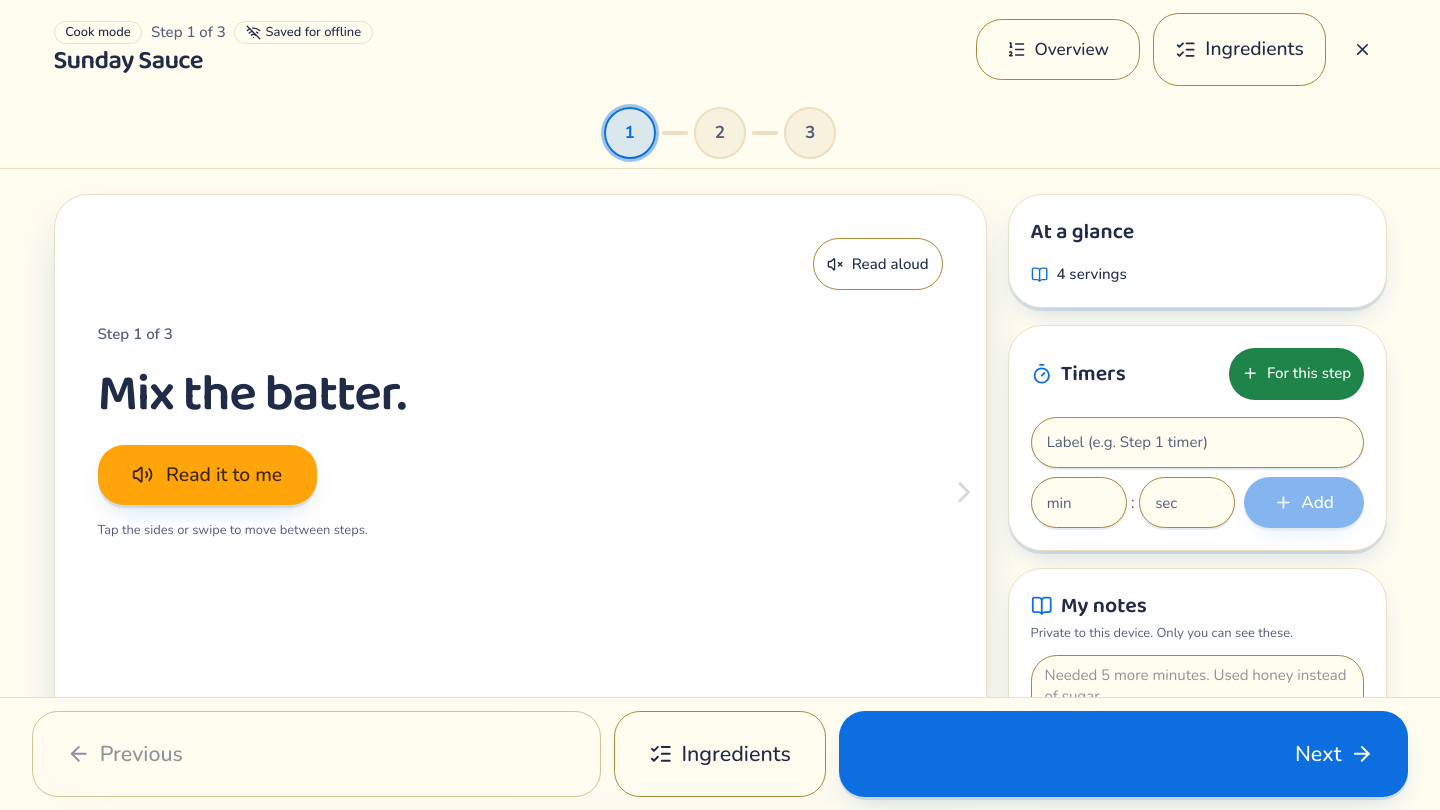
Test case: Cook Mode Kids step trail (issue #441) › shows a tappable step trail that navigates in Kids mode
The width and height of the screenshot is (1440, 810).
Check: the button named "Go to step 1 of 3" is shown, box [604,108,656,159]
Click the button named "Go to step 3 of 3" at (810, 133), box [784,108,836,159]
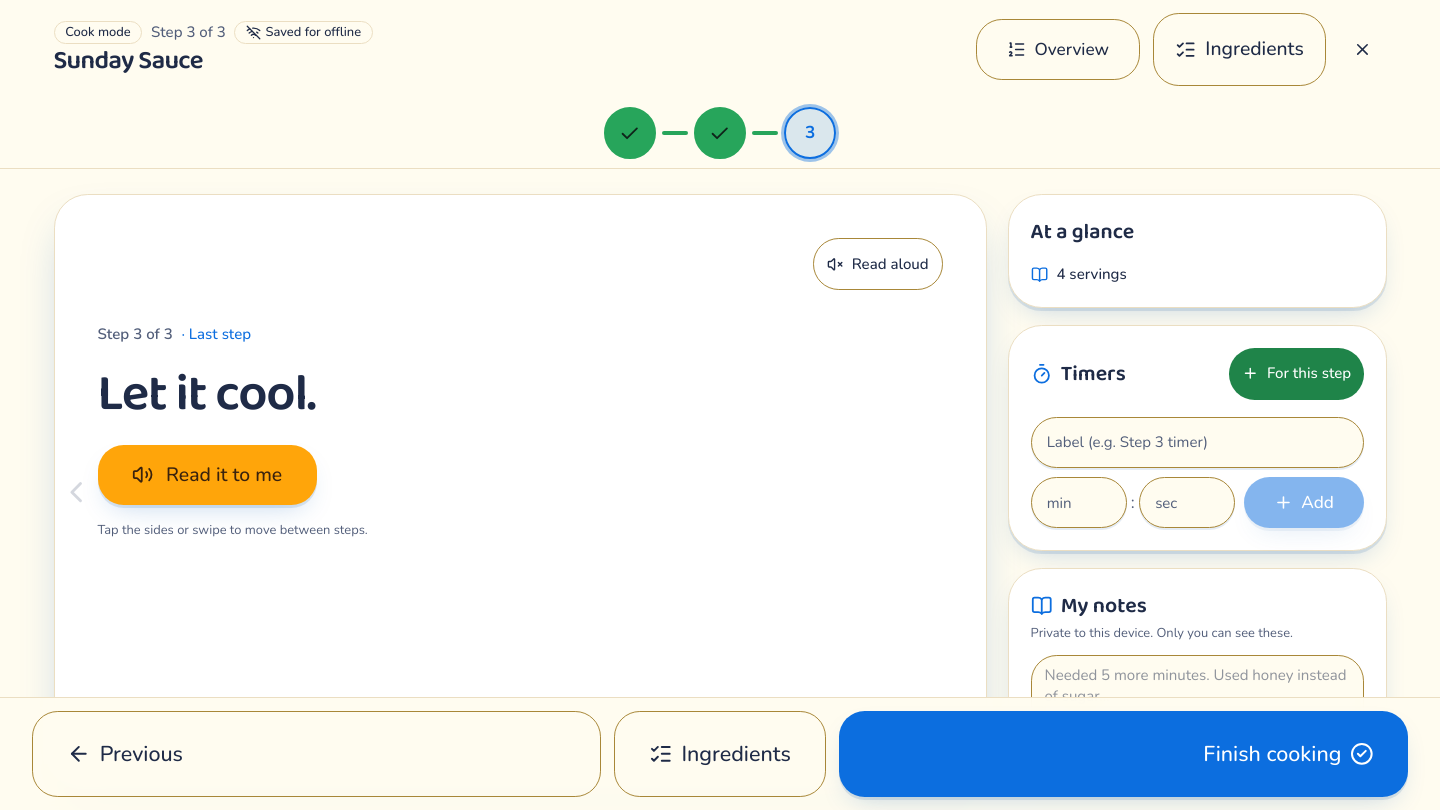
Check: the heading "Let it cool." is shown, box [98,353,315,436]
